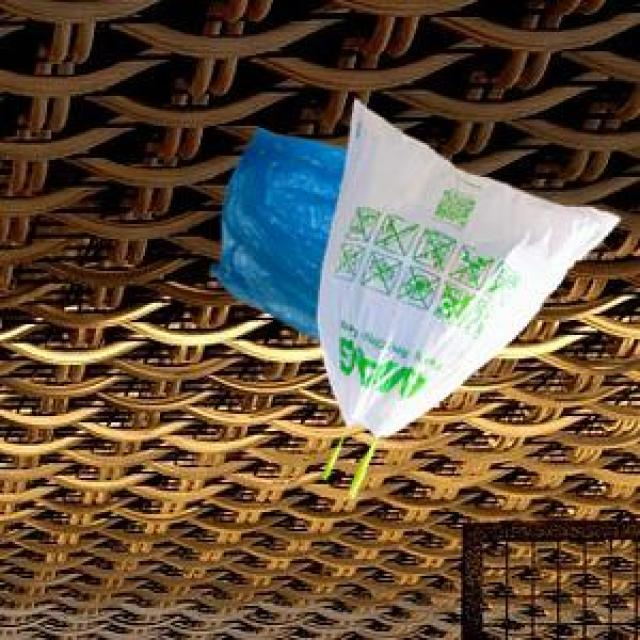plastic: (204, 74, 622, 521)
